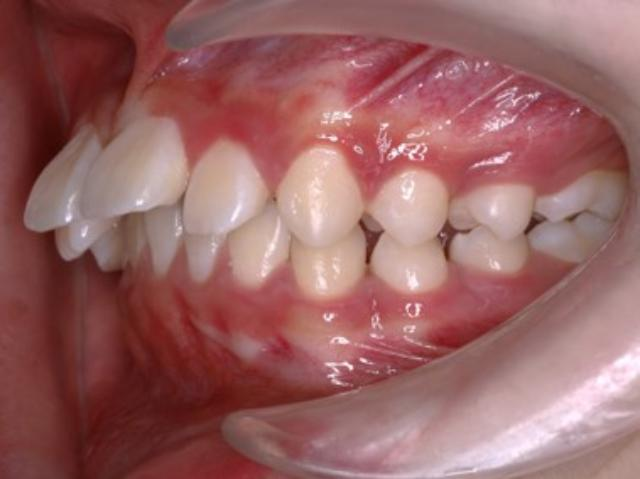canine class II 3/4: (281, 144, 449, 306)
molar class II 1/2: (530, 161, 632, 266)
